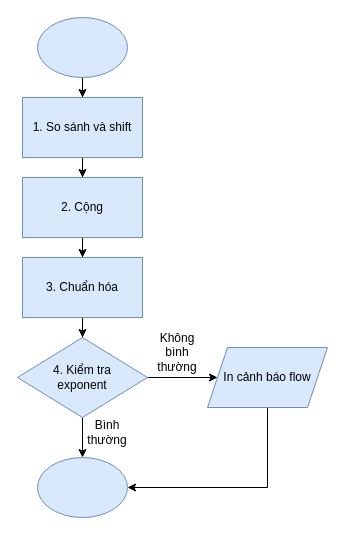
The diagram is 345 pixels wide and 535 high, and some of its shapes have lost their labels. Here are the shapes that lost their labels. From the top down, the centre of each, then its label:
At (82,47): "Bắt đầu".
At (82,487): "Kết thúc".
